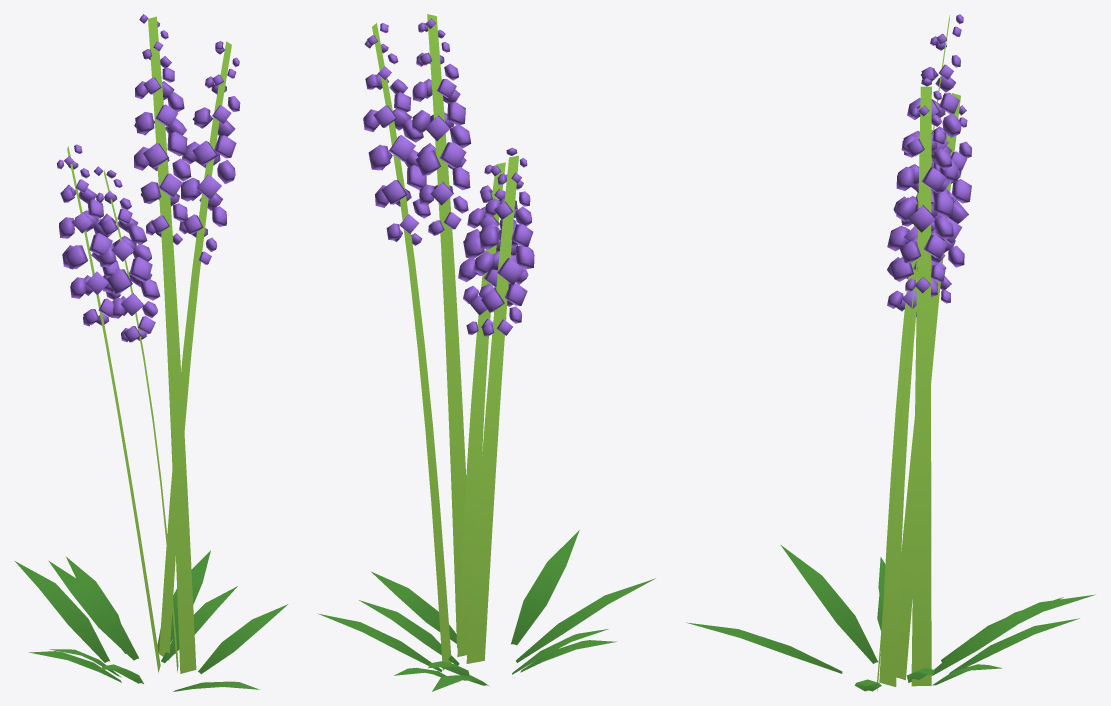
File: lupine1.gltf
3 views of the same model, side by side, from view 1: azimuth 30°, elevation 25°; view 2: azimuth 150°, elevation 25°; view 3: azimuth 270°, elevation 25° (orthographic). The views are drawn at different scales.
Visible parts, largest first — view 1: lupine1_head_LOD0, lupine1_stalk_LOD0, lupine1_leaf_LOD0; view 2: lupine1_stalk_LOD0, lupine1_head_LOD0, lupine1_leaf_LOD0; view 3: lupine1_stalk_LOD0, lupine1_head_LOD0, lupine1_leaf_LOD0.
Boxes of the visible parts, x1,y1,x2,y2 form: lupine1_head_LOD0: (57, 14, 240, 342); lupine1_stalk_LOD0: (67, 16, 231, 673); lupine1_leaf_LOD0: (15, 550, 288, 691); lupine1_stalk_LOD0: (372, 14, 518, 670); lupine1_head_LOD0: (363, 18, 534, 336); lupine1_leaf_LOD0: (318, 530, 655, 691); lupine1_stalk_LOD0: (877, 15, 960, 691); lupine1_head_LOD0: (887, 14, 971, 316); lupine1_leaf_LOD0: (686, 545, 1095, 691).
Size of what is drawn, in the model's own units: 0.3326 by 0.8084 by 0.45.
